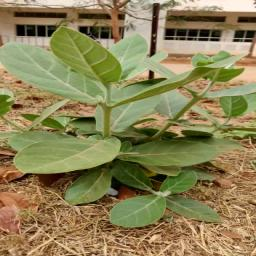CALOTROPIS: (0, 30, 253, 223)
